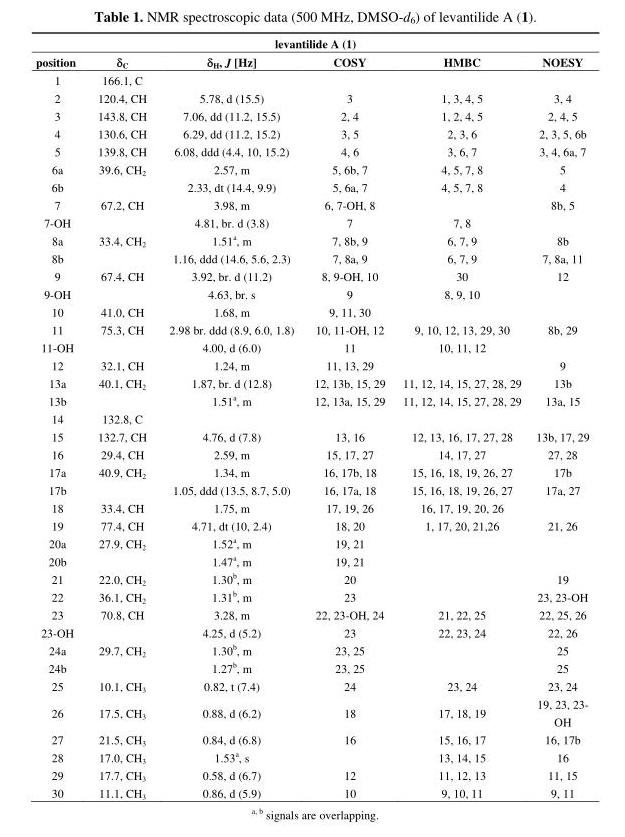table: (34, 34, 588, 800)
table column: (157, 34, 303, 800), (393, 34, 528, 800), (303, 34, 393, 800), (86, 34, 157, 800), (528, 34, 588, 800), (34, 34, 86, 800)
table column header: (34, 34, 588, 70)
table row: (34, 694, 588, 729), (34, 230, 588, 249), (34, 568, 588, 587), (34, 34, 588, 52), (34, 52, 588, 70), (34, 70, 588, 88), (34, 88, 588, 106), (34, 106, 588, 124), (34, 141, 588, 159), (34, 159, 588, 177), (34, 177, 588, 195), (34, 195, 588, 213), (34, 266, 588, 284), (34, 284, 588, 302), (34, 302, 588, 320), (34, 337, 588, 355), (34, 355, 588, 373), (34, 373, 588, 391), (34, 391, 588, 409), (34, 426, 588, 444), (34, 444, 588, 462), (34, 462, 588, 480), (34, 480, 588, 498), (34, 498, 588, 516), (34, 533, 588, 551), (34, 587, 588, 605), (34, 622, 588, 640), (34, 640, 588, 658), (34, 658, 588, 676), (34, 676, 588, 694), (34, 729, 588, 747), (34, 747, 588, 765), (34, 765, 588, 783), (34, 124, 588, 141), (34, 213, 588, 230), (34, 249, 588, 266), (34, 320, 588, 337), (34, 409, 588, 426), (34, 516, 588, 533), (34, 551, 588, 568), (34, 605, 588, 622), (34, 783, 588, 800)
table spanning cell: (34, 34, 588, 52)
